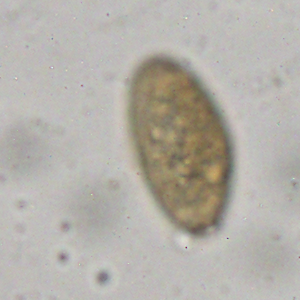Fasciola_hepatica_egg: (128, 54, 234, 236)
